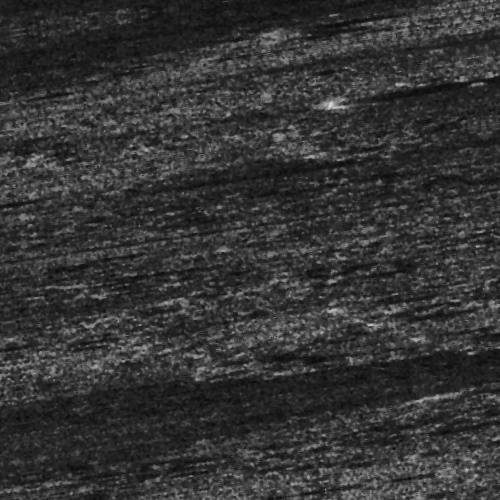object: (337, 109, 410, 120), (376, 416, 469, 423), (158, 493, 241, 500), (287, 30, 340, 39), (54, 255, 107, 260), (472, 32, 500, 37)
shadow: (374, 109, 500, 120), (199, 493, 342, 500), (314, 30, 405, 39), (423, 416, 500, 423), (80, 255, 183, 260), (0, 165, 42, 170)
